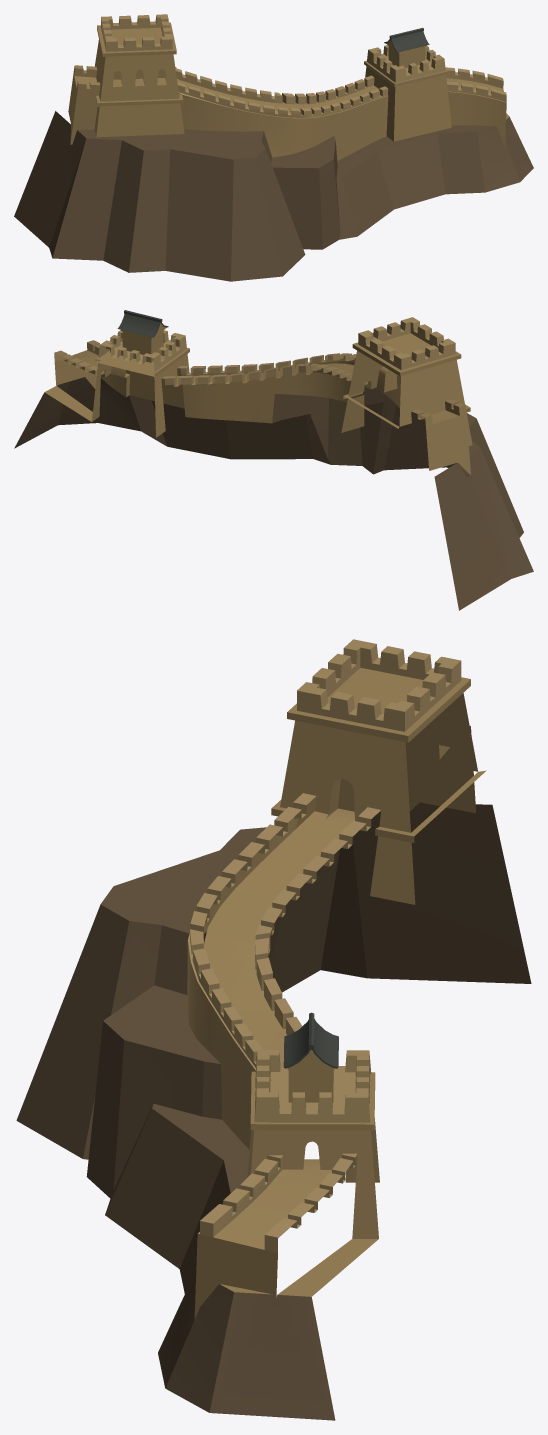
Rendered from ChangCheng.fbx.
3 renders of one model, top to bottom at view 1: azimuth 30°, elevation 25°; view 2: azimuth 150°, elevation 25°; view 3: azimuth 270°, elevation 25°, orthographic. The views are drawn at different scales.
Visible parts, largest first — view 1: Object001, ChangCheng; view 2: ChangCheng, Object001; view 3: Object001, ChangCheng.
Part boxes in pixels (x1=…): Object001: x1=14, y1=111, x2=533, y2=281; ChangCheng: x1=68, y1=14, x2=509, y2=160; ChangCheng: x1=44, y1=310, x2=472, y2=474; Object001: x1=14, y1=377, x2=533, y2=610; Object001: x1=16, y1=802, x2=531, y2=1420; ChangCheng: x1=187, y1=639, x2=486, y2=1318.
Size of the model in its own units: 594 by 240 by 287.
